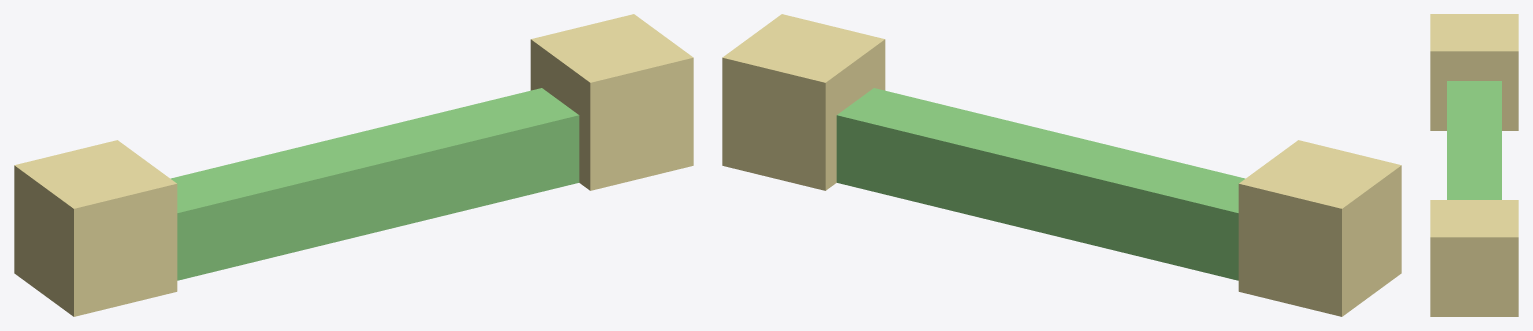
File: Prop_Pet_AMF_ToyRope_V5.glb
The picture shows the model from 3 angles, left to right: view 1: azimuth 30°, elevation 25°; view 2: azimuth 150°, elevation 25°; view 3: azimuth 270°, elevation 25°; orthographic projection. The views are drawn at different scales.
Visible parts, largest first — view 1: Prop_Pet_AMF_ToyRope_V5; view 2: Prop_Pet_AMF_ToyRope_V5; view 3: Prop_Pet_AMF_ToyRope_V5.
Part boxes in pixels (x1,y1,x2,y2): Prop_Pet_AMF_ToyRope_V5: [14, 14, 693, 316]; Prop_Pet_AMF_ToyRope_V5: [722, 14, 1401, 316]; Prop_Pet_AMF_ToyRope_V5: [1430, 14, 1518, 316].
Size of the model in its own units: 0.48 by 0.08 by 0.08.
